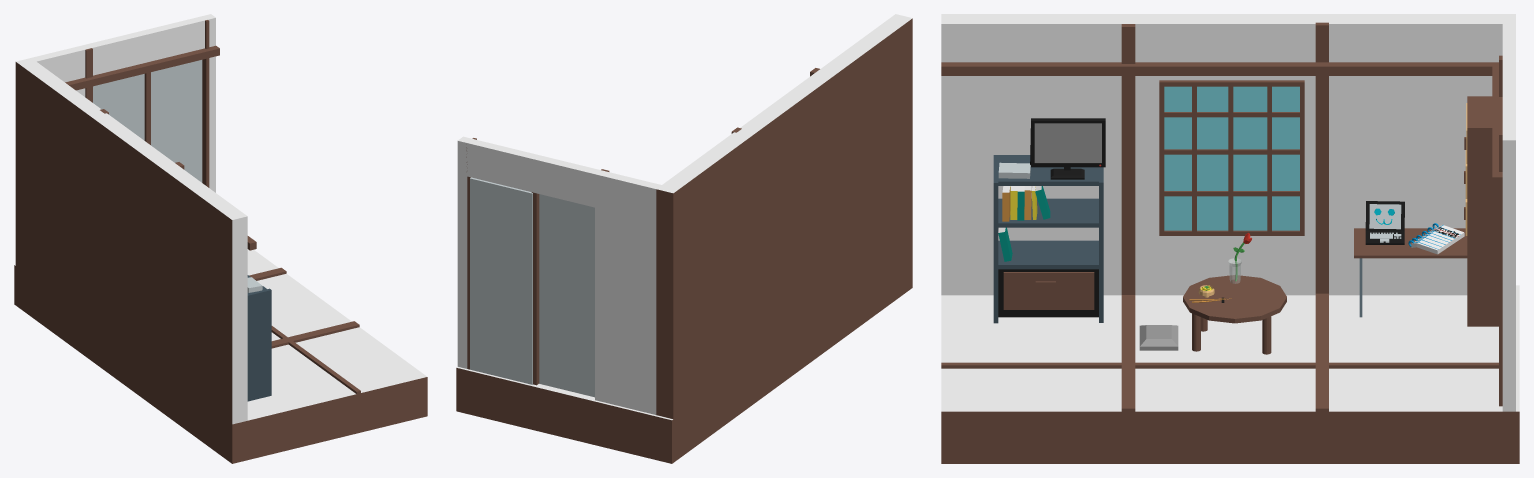
Rendered from scene_wFcHvhteYt.glb.
3 views of the same model, side by side, from view 1: azimuth 30°, elevation 25°; view 2: azimuth 150°, elevation 25°; view 3: azimuth 270°, elevation 25° (orthographic). The views are drawn at different scales.
Parts seen in each view (by area): view 1: group1326630912, group516764482, group745367030, group1693636355, group658664301, group2111397657, group1537642806, group555572942, group1927464207, group267787915, group663681377, group815848767 (+3 smaller); view 2: group1326630912, group516764482, group1693636355, group267787915, group658664301, group555572942, group2111397657, group745367030, group815848767, group2143274719, group663681377; view 3: group1326630912, group1693636355, group516764482, group745367030, group689447950, group1132288659, group506089758, group1140511903, group357302849, group260599755, group1744527348, group146221792 (+27 smaller).
Boxes of the visible parts, x1,y1,x2,y2 form: group1326630912: (15,58,169,366); group516764482: (154,159,247,424); group745367030: (154,319,427,463); group1693636355: (14,249,348,406); group658664301: (151,60,202,182); group2111397657: (85,14,215,75); group1537642806: (247,288,271,401); group555572942: (93,74,144,140); group1927464207: (65,45,219,90); group267787915: (31,45,88,96); group663681377: (202,20,209,187); group815848767: (209,56,215,192); group1326630912: (656,77,826,419); group516764482: (809,14,912,306); group1693636355: (456,308,826,463); group267787915: (595,170,661,414); group658664301: (470,177,532,384); group555572942: (539,194,594,397); group2111397657: (457,136,602,207); group745367030: (826,244,912,350); group815848767: (457,174,467,368); group2143274719: (531,192,539,385); group663681377: (466,138,476,369); group1326630912: (1149,14,1515,295); group1693636355: (1149,285,1519,463); group516764482: (941,14,1148,295); group745367030: (941,295,1148,463); group689447950: (1164,86,1299,230); group1132288659: (941,62,1498,75); group506089758: (1467,96,1498,326); group1140511903: (1121,24,1135,294); group357302849: (941,362,1498,368); group260599755: (1183,275,1286,323); group1744527348: (1030,118,1105,167); group146221792: (1315,22,1328,293).
Size of the model in its own units: 3.23 by 3.85 by 6.24.
